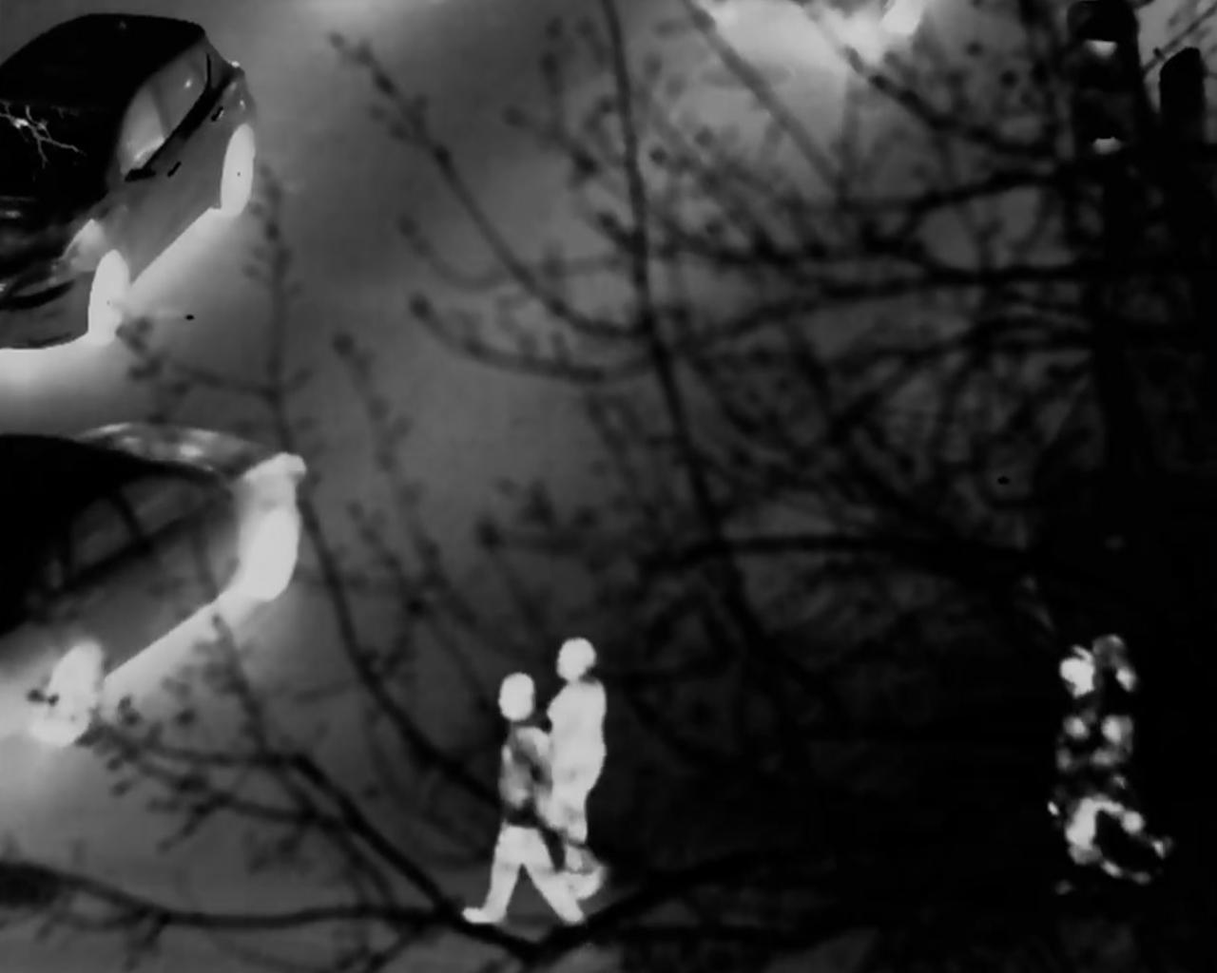person: (478, 669, 573, 899), (540, 634, 612, 896), (1056, 639, 1132, 886)
